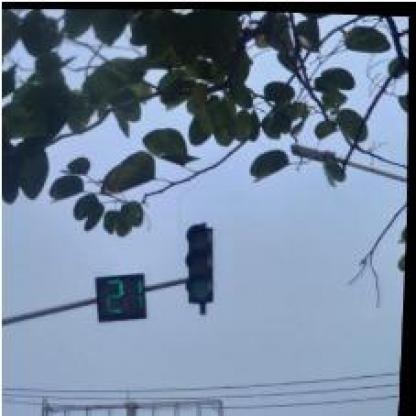green: (185, 222, 218, 302)
